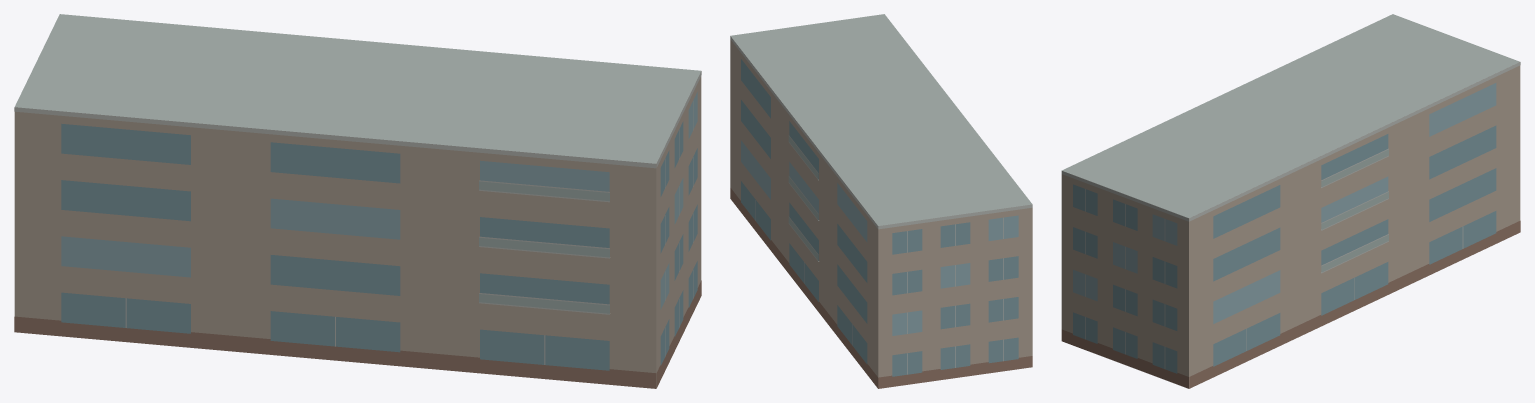
Rendered from survey-upis-32824390.glb.
The picture shows the model from 3 angles, left to right: view 1: azimuth 30°, elevation 25°; view 2: azimuth 150°, elevation 25°; view 3: azimuth 270°, elevation 25°; orthographic projection. The views are drawn at different scales.
Parts seen in each view (by area): view 1: survey-upis-32824390.tmp; view 2: survey-upis-32824390.tmp; view 3: survey-upis-32824390.tmp.
Part boxes in pixels (left/top/right/bottom): survey-upis-32824390.tmp: left=14, top=14, right=701, bottom=388; survey-upis-32824390.tmp: left=730, top=14, right=1032, bottom=388; survey-upis-32824390.tmp: left=1061, top=14, right=1520, bottom=388.
Bounding box in the file's own units: 31.35 × 12.2 × 29.75.
